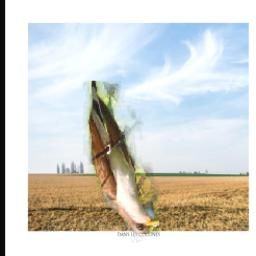Cuckoo: (84, 81, 160, 234)
